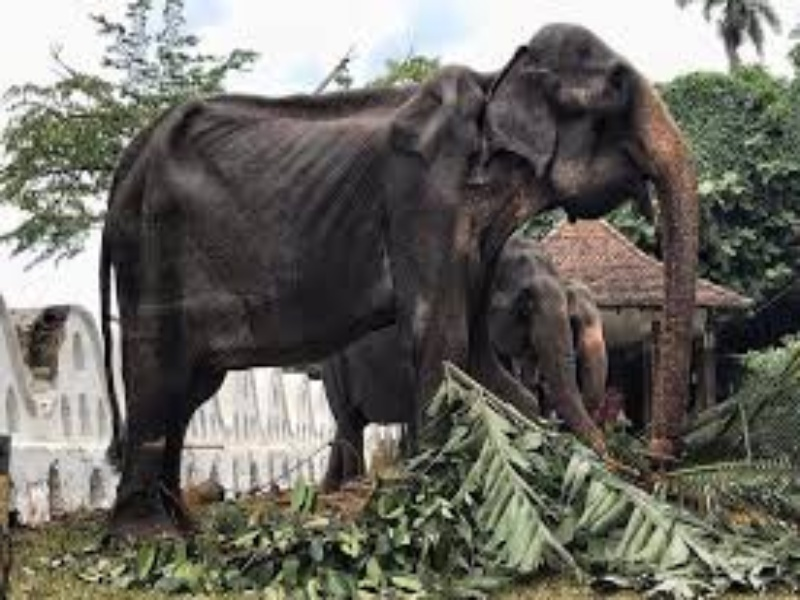elephant: (58, 18, 692, 558)
